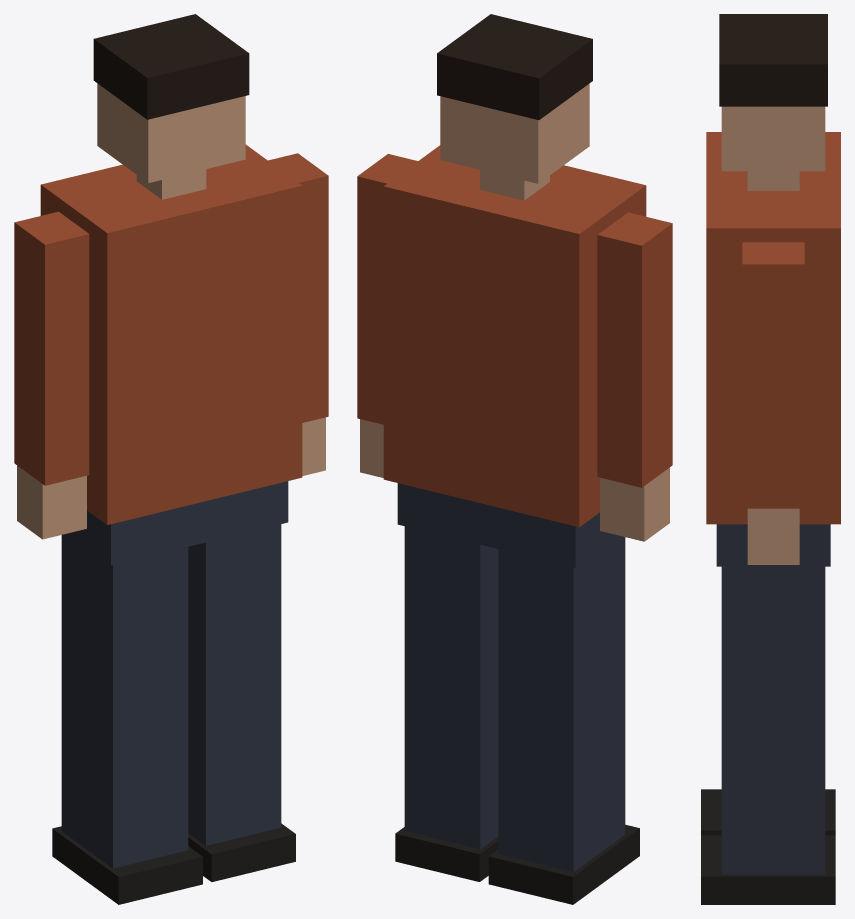
File: humanoid-c.dae
3 renders of one model, left to right at view 1: azimuth 30°, elevation 25°; view 2: azimuth 150°, elevation 25°; view 3: azimuth 270°, elevation 25°, orthographic.
Parts seen in each view (by area): view 1: humanoid-c; view 2: humanoid-c; view 3: humanoid-c.
Part boxes in pixels (x1,y1,x2,y2): humanoid-c: (14, 14, 328, 904); humanoid-c: (357, 14, 672, 904); humanoid-c: (701, 14, 840, 904).
Size of the model in its own units: 0.64 by 1.75 by 0.27.
